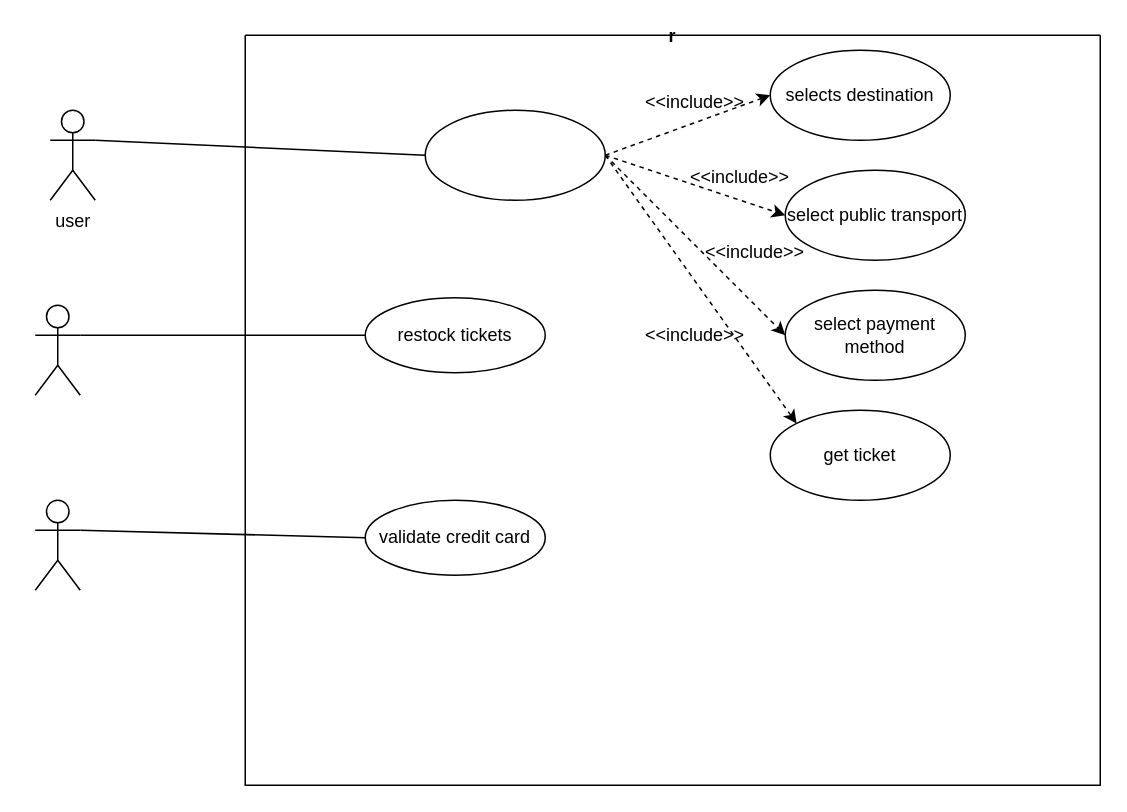
Some shapes in this 1127 by 812 pixel diagram are drawn without their labels. Here are the shapes that lost their labels. From the top down, the centre of each, then its label:
At (514,154): "purchase ticket".
At (57,349): "supplier".
At (57,544): "bank".
